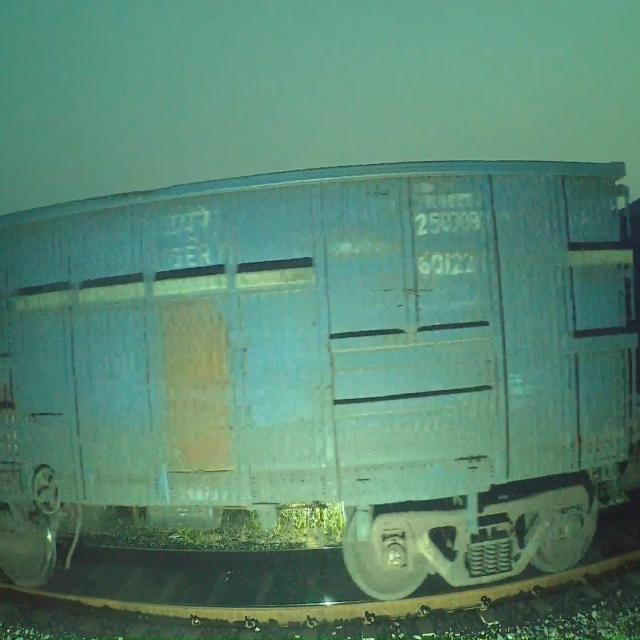WAgon-uic: (0, 159, 629, 599)
uic: (410, 202, 486, 284)
